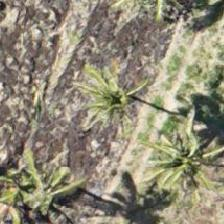coconut_tree: (71, 54, 161, 144), (131, 102, 221, 192), (0, 143, 74, 223)
